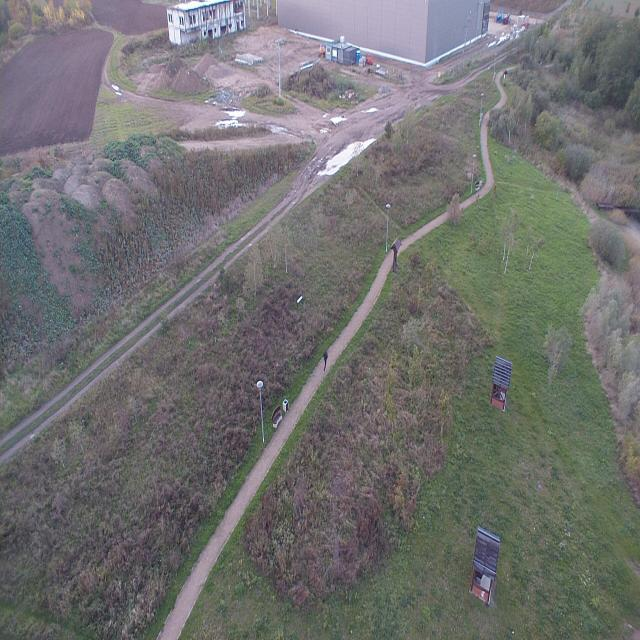p3rson: (322, 349, 328, 372)
